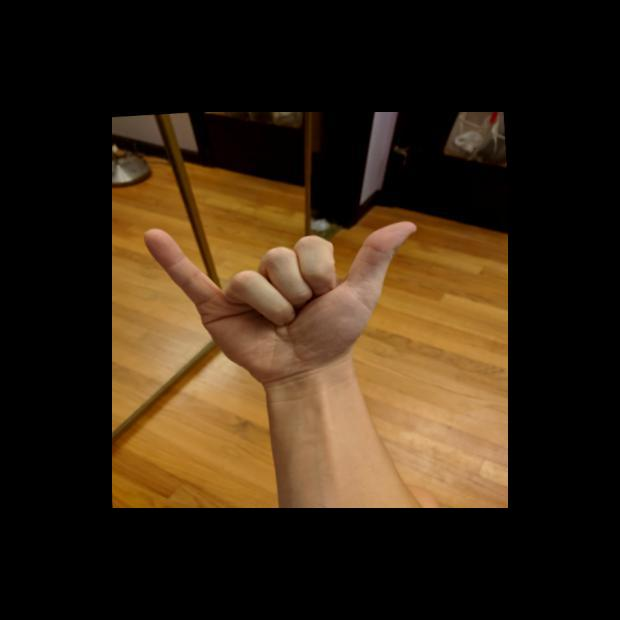X: (136, 201, 435, 400)
